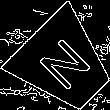N_SE: (33, 33, 96, 96)
